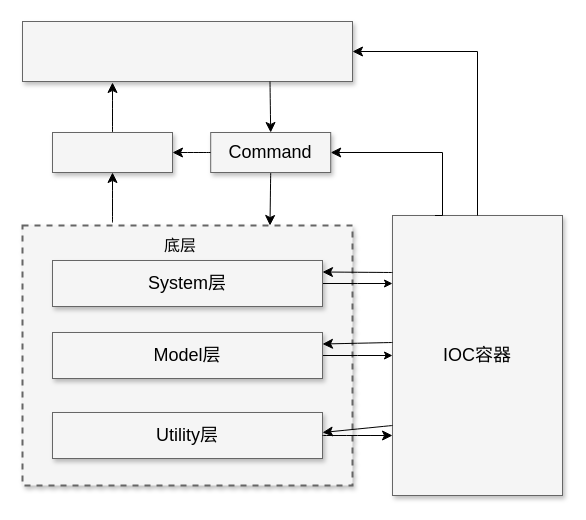
Some shapes in this 586 by 520 pixel diagram are drawn without their labels. Here are the shapes that lost their labels. From the top down, the centre of each, then its label:
the point at 188,52: Controller层
the point at 113,154: Event
